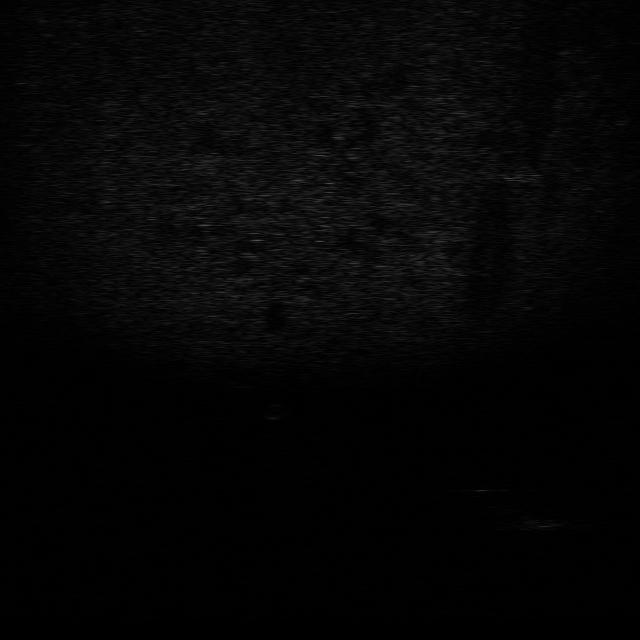ball: (256, 401, 292, 422)
metal bucket: (509, 507, 576, 532)
tyre: (466, 485, 519, 517)
